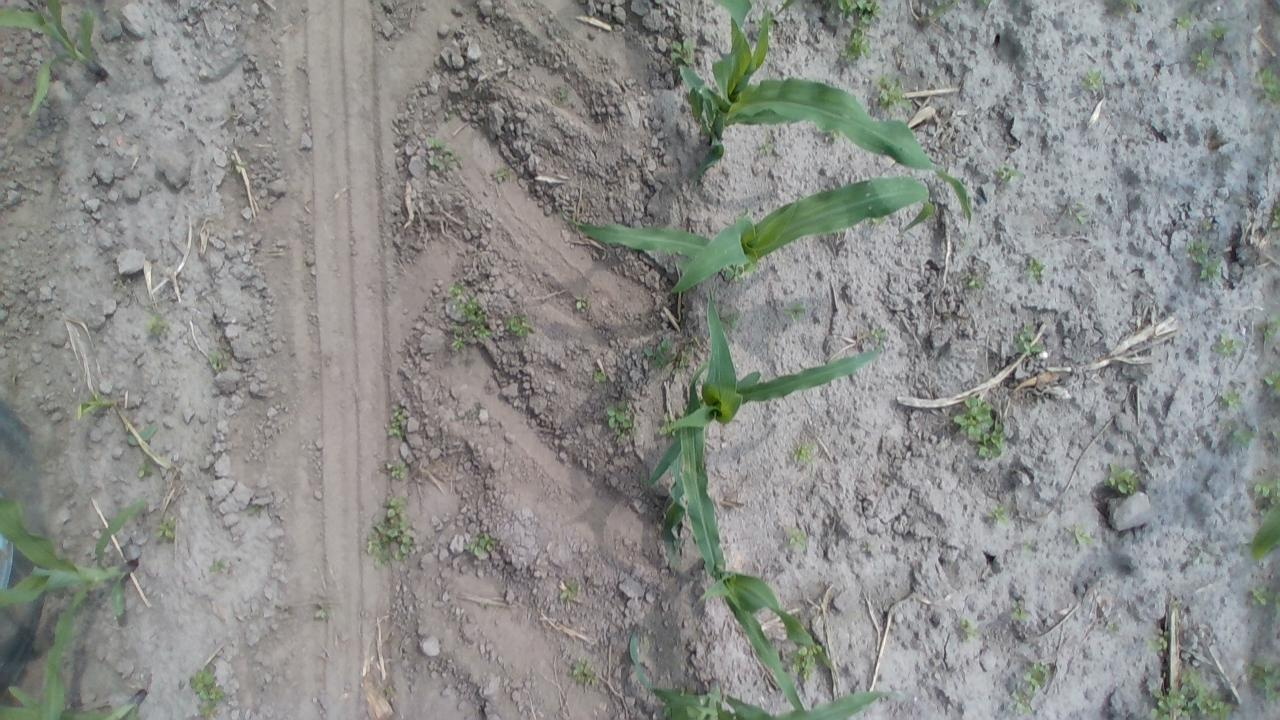Maize: (676, 0, 966, 245), (643, 293, 879, 581), (565, 177, 945, 298), (665, 478, 831, 701), (2, 496, 143, 718), (628, 641, 896, 720), (2, 0, 106, 124)
Weeds: (1144, 668, 1226, 718), (364, 494, 416, 570), (952, 396, 1007, 460), (447, 282, 493, 346), (1012, 662, 1047, 716), (189, 667, 223, 718), (1246, 658, 1278, 704), (1103, 461, 1141, 498), (872, 74, 908, 112), (1188, 243, 1222, 282), (426, 136, 463, 170), (792, 642, 822, 680), (840, 26, 869, 61), (1250, 66, 1276, 105), (1013, 326, 1045, 357), (643, 338, 675, 368), (606, 403, 636, 435), (1184, 538, 1216, 567), (570, 656, 599, 688), (1252, 475, 1276, 513), (464, 531, 497, 558), (669, 38, 698, 68), (836, 1, 881, 20), (504, 312, 534, 338), (1214, 332, 1242, 358), (1230, 424, 1260, 448), (1190, 47, 1216, 73), (154, 515, 178, 542), (388, 406, 407, 439), (784, 526, 808, 552), (1081, 68, 1104, 94), (1066, 200, 1088, 227), (789, 441, 812, 464), (986, 504, 1011, 525), (1104, 0, 1140, 14), (1024, 256, 1045, 280), (206, 348, 228, 370), (785, 302, 806, 325), (1250, 586, 1274, 606), (1218, 388, 1242, 408), (757, 134, 775, 160), (1173, 12, 1196, 32), (723, 264, 748, 282), (387, 459, 408, 480), (560, 579, 580, 601), (1072, 526, 1092, 548), (963, 270, 985, 290), (148, 314, 168, 336), (1207, 23, 1229, 43), (1012, 598, 1031, 621), (1260, 314, 1276, 341), (929, 1, 954, 18), (958, 618, 976, 641), (865, 325, 886, 344), (996, 163, 1016, 182), (1150, 631, 1168, 652), (1260, 370, 1276, 393), (659, 416, 676, 436), (208, 557, 228, 574), (314, 604, 331, 621), (382, 681, 398, 699), (136, 460, 152, 478), (493, 167, 512, 182), (590, 367, 606, 384), (554, 84, 569, 102), (244, 503, 262, 518), (1021, 540, 1038, 554), (574, 297, 588, 311), (1200, 218, 1214, 231), (1106, 620, 1118, 632)
